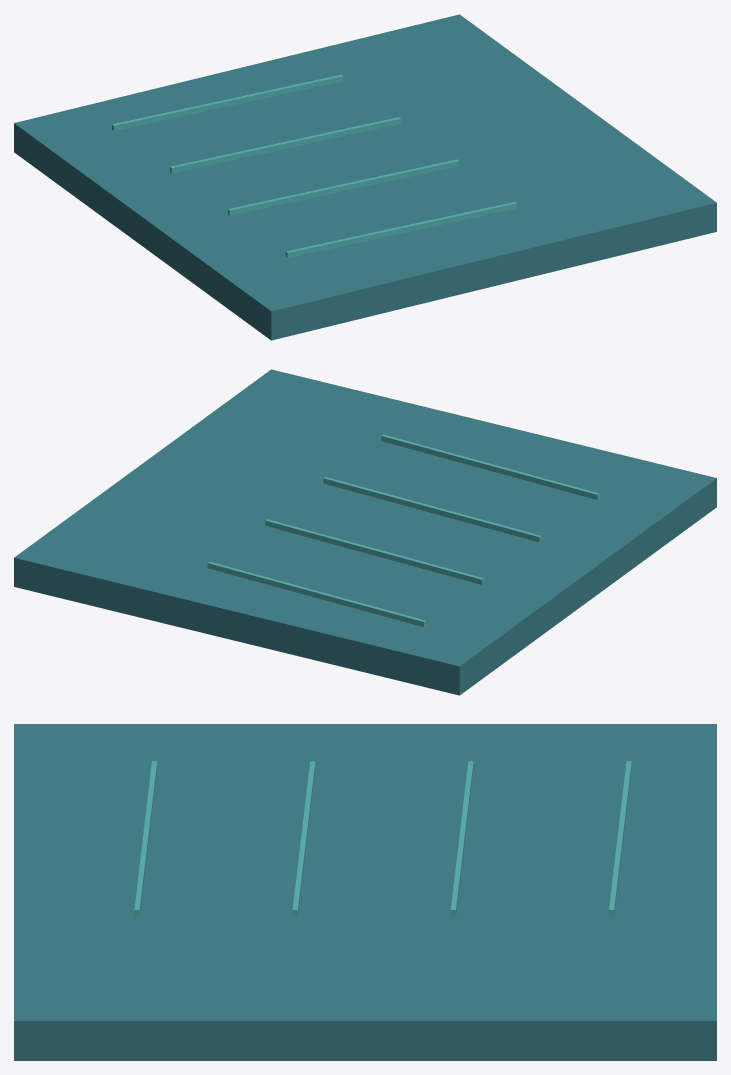
The model's file is terrain-river-straight.lod0.glb.
3 views of the same model, one above another, from view 1: azimuth 30°, elevation 25°; view 2: azimuth 150°, elevation 25°; view 3: azimuth 270°, elevation 25° (orthographic). The views are drawn at different scales.
Parts seen in each view (by area): view 1: terrain-river-straight__body; view 2: terrain-river-straight__body; view 3: terrain-river-straight__body.
Boxes of the visible parts, bbox=[...] form: terrain-river-straight__body: bbox=[14, 14, 716, 340]; terrain-river-straight__body: bbox=[14, 369, 716, 695]; terrain-river-straight__body: bbox=[14, 724, 716, 1060].
Bounding box in the file's own units: 2 × 0.1475 × 2.
